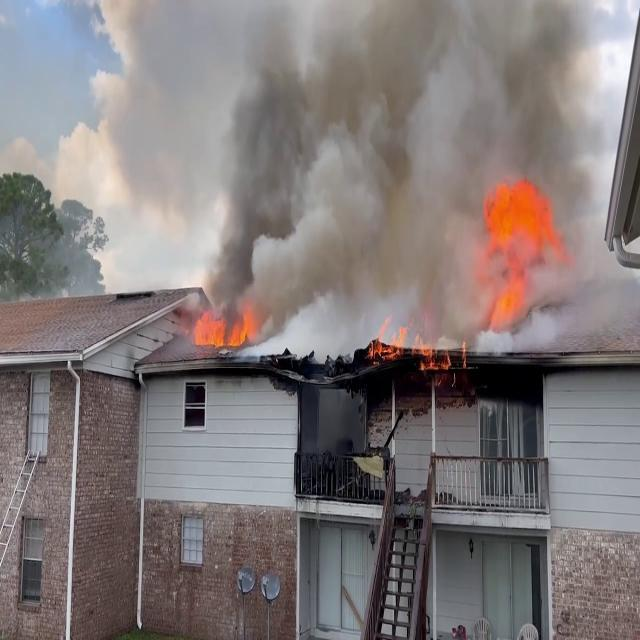Fire: (478, 175, 558, 326), (189, 307, 258, 353)
Smoke: (195, 0, 612, 330)
